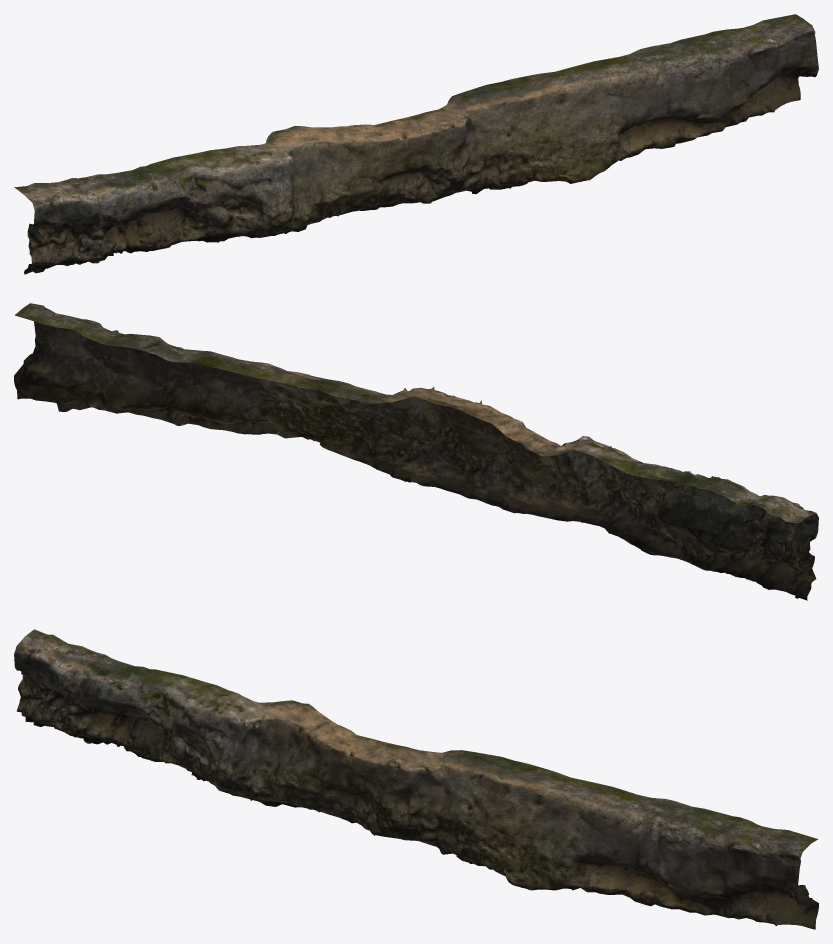
File: coastal_cliff_01.glb
3 renders of one model, top to bottom at view 1: azimuth 30°, elevation 25°; view 2: azimuth 150°, elevation 25°; view 3: azimuth 330°, elevation 25°, orthographic. The views are drawn at different scales.
Visible parts, largest first — view 1: coastal_cliff_01; view 2: coastal_cliff_01; view 3: coastal_cliff_01.
Boxes of the visible parts, bbox=[...] form: coastal_cliff_01: bbox=[14, 14, 818, 274]; coastal_cliff_01: bbox=[14, 303, 818, 600]; coastal_cliff_01: bbox=[14, 629, 818, 929].
Size of the model in its own units: 91.94 by 10.26 by 10.92.
Materials: 1 (1 with a texture image).
